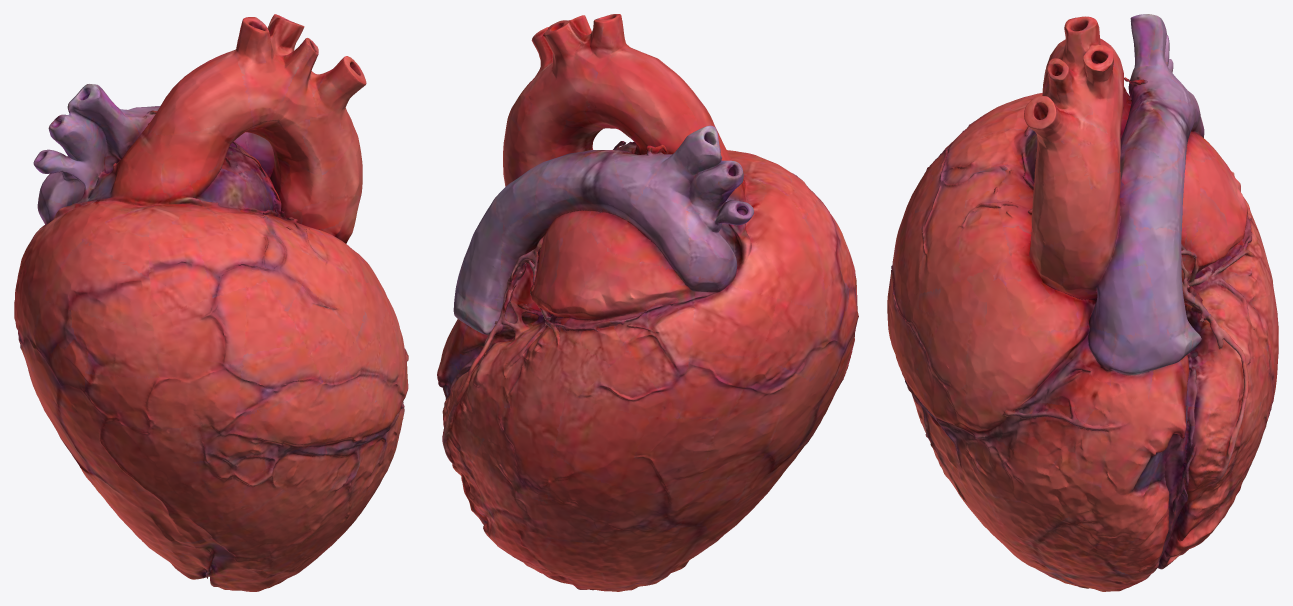
The model's file is dilated-heart.glb.
The picture shows the model from 3 angles, left to right: view 1: azimuth 30°, elevation 25°; view 2: azimuth 150°, elevation 25°; view 3: azimuth 270°, elevation 25°; orthographic projection.
Visible parts, largest first — view 1: Heart; view 2: Heart; view 3: Heart.
Boxes of the visible parts, <box> form: Heart: <box>14,14,408,591</box>; Heart: <box>437,14,858,591</box>; Heart: <box>887,14,1278,591</box>.
Bounding box in the file's own units: 0.1692 × 0.2549 × 0.1606.
Materials: 1 (1 with a texture image).
